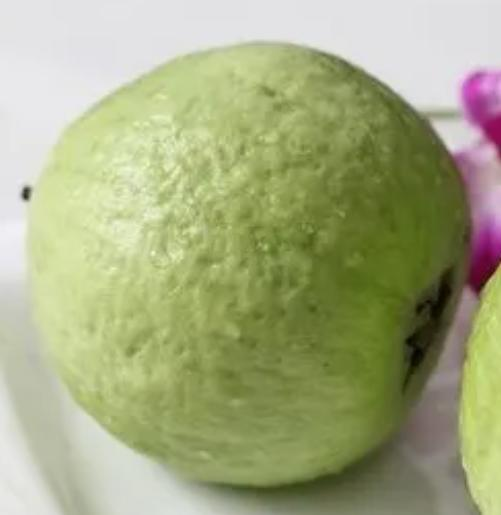guava_A: (28, 43, 468, 488)
